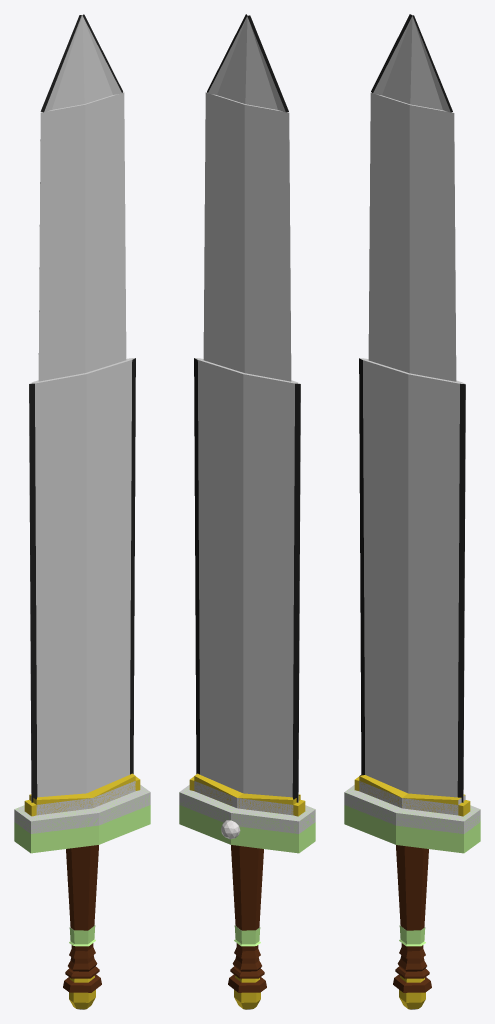
3 views of the same model, side by side, from view 1: azimuth 30°, elevation 25°; view 2: azimuth 150°, elevation 25°; view 3: azimuth 330°, elevation 25° (orthographic).
Parts seen in each view (by area): view 1: Cylinder; view 2: Cylinder; view 3: Cylinder.
Part boxes in pixels (left/top/right/bottom): Cylinder: left=14, top=14, right=150, bottom=1009; Cylinder: left=179, top=14, right=315, bottom=1009; Cylinder: left=344, top=14, right=480, bottom=1009.
Size of the model in its own units: 41710 by 330499 by 23037.
